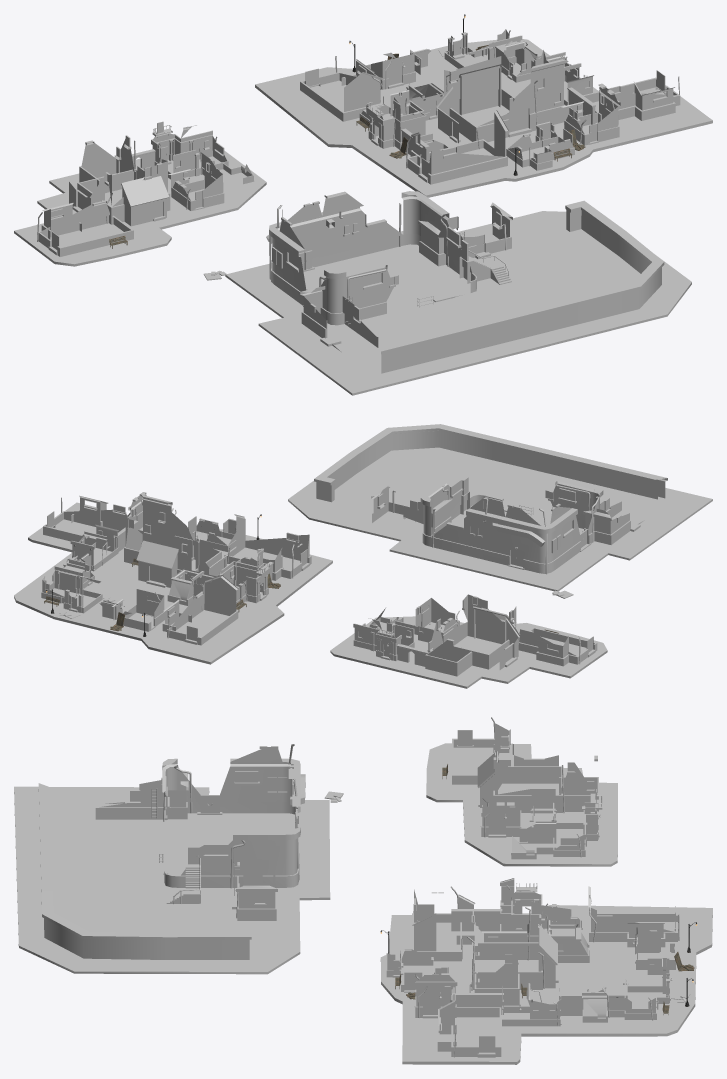
Rendered from buildingsADestroyed.fbx.
3 renders of one model, top to bottom at view 1: azimuth 30°, elevation 25°; view 2: azimuth 150°, elevation 25°; view 3: azimuth 270°, elevation 25°, orthographic. The views are drawn at different scales.
Parts seen in each view (by area): view 1: floor, block3, pavement_2, building5_1, pavement, building5, sideblock1_2, building2_2_3, building2_2, sideblock1_1, sideblock1_1_2, building2_2_2 (+6 smaller); view 2: block3, floor, pavement_2, pavement, building5_1, building5, building2_2_3, sideblock1_1_2, building2_2, building2_2_2, sideblock1_2, sideblock1 (+5 smaller); view 3: floor, block3, pavement_2, pavement, building5, building5_1, building2_2_3, building2_2, building2_2_2, building1_2, sideblock1_1_2, sideblock1_2 (+6 smaller).
Boxes of the visible parts, x1,y1,x2,y2 form: floor: (225,211,691,395); block3: (266,191,664,373); pavement_2: (255,39,712,197); building5_1: (435,50,567,143); pavement: (14,150,266,266); building5: (69,135,170,226); sideblock1_2: (406,110,508,184); building2_2_3: (359,81,443,162); building2_2: (116,121,254,184); sideblock1_1: (37,192,133,256); sideblock1_1_2: (300,56,382,121); building2_2_2: (410,29,541,82); block3: (314,424,667,574); floor: (288,447,712,591); pavement_2: (14,502,332,664); pavement: (330,616,607,688); building5_1: (124,495,227,587); building5: (425,594,520,676); building2_2_3: (167,548,283,607); sideblock1_1_2: (162,575,238,645); building2_2: (353,608,429,666); building2_2_2: (41,555,117,619); sideblock1_2: (224,514,311,580); sideblock1: (43,495,131,545); floor: (14,786,330,974); block3: (38,744,305,959); pavement_2: (380,905,712,1064); pavement: (426,743,617,866); building5: (477,734,598,813); building5_1: (467,907,558,1005); building2_2_3: (451,878,589,962); building2_2: (511,789,602,859); building2_2_2: (582,958,672,1022); building1_2: (455,983,583,1026); sideblock1_1_2: (588,886,679,947); sideblock1_2: (412,886,475,961).
Size of the model in its own units: 10443 by 9653 by 1231.
